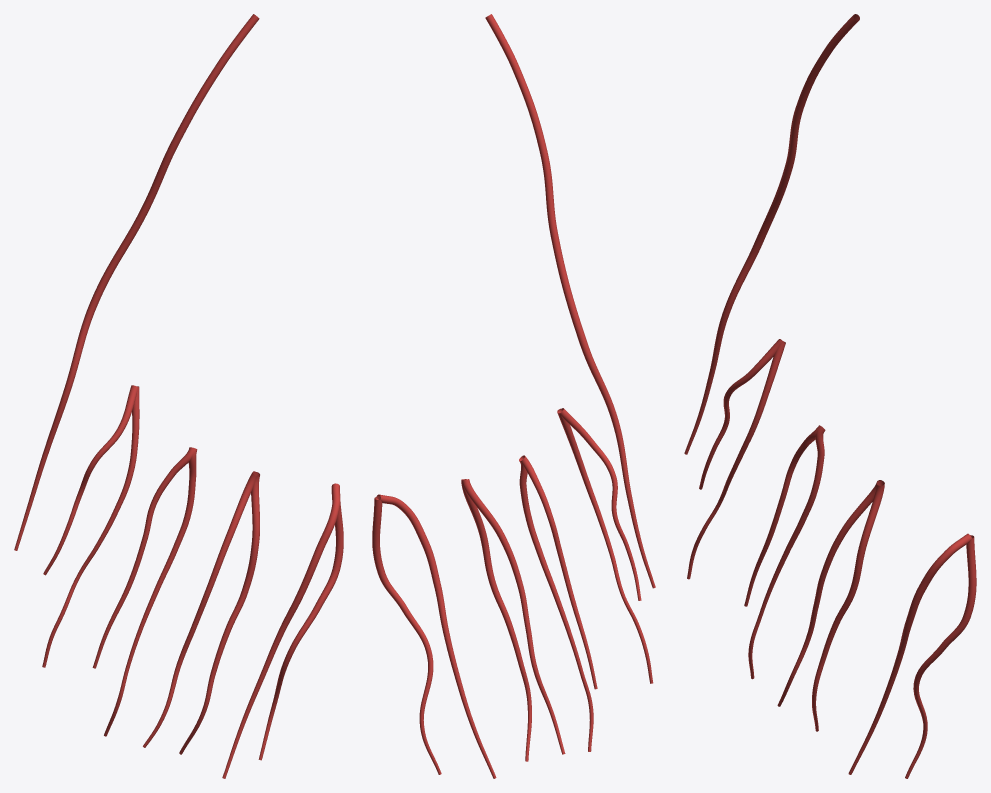
3 renders of one model, left to right at view 1: azimuth 30°, elevation 25°; view 2: azimuth 150°, elevation 25°; view 3: azimuth 330°, elevation 25°, orthographic. The views are drawn at different scales.
Parts seen in each view (by area): view 1: 右侧趾足底固有动脉; view 2: 右侧趾足底固有动脉; view 3: 右侧趾足底固有动脉.
Boxes of the visible parts, bbox=[...] form: 右侧趾足底固有动脉: bbox=[14, 14, 343, 778]; 右侧趾足底固有动脉: bbox=[372, 14, 655, 778]; 右侧趾足底固有动脉: bbox=[684, 14, 976, 778].
Size of the model in its own units: 0.0889 by 0.2115 by 0.0193.
